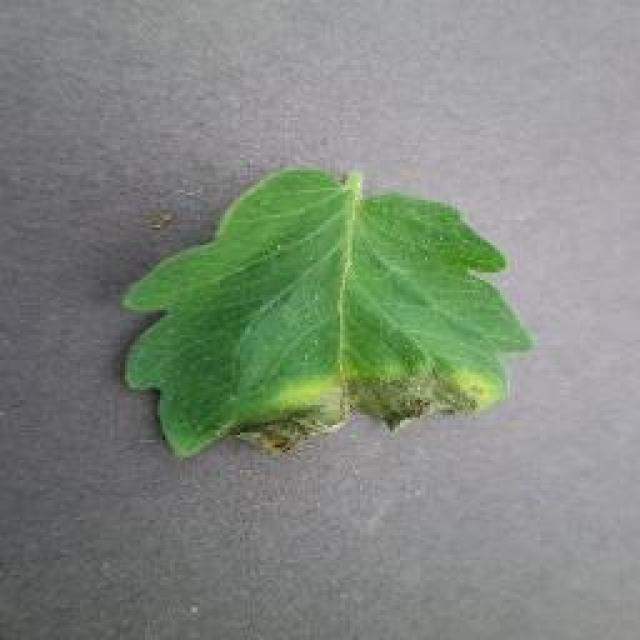Tomato Late Blight: (165, 350, 505, 467)
